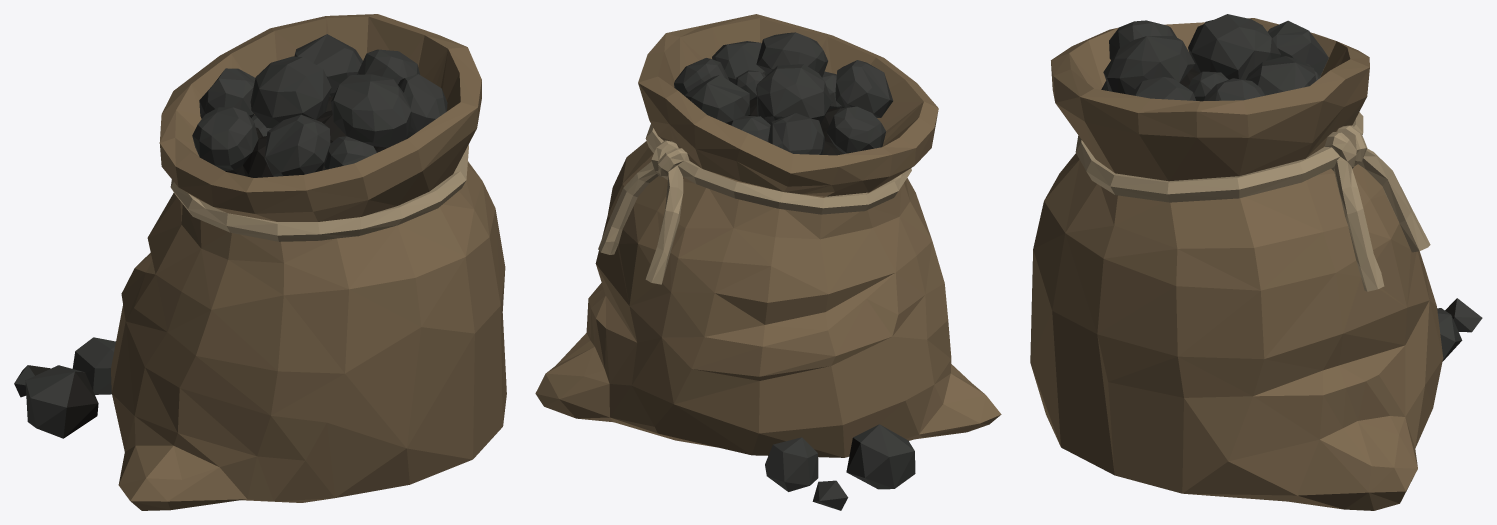
Rendered from CoalSack.fbx.
3 views of the same model, side by side, from view 1: azimuth 30°, elevation 25°; view 2: azimuth 150°, elevation 25°; view 3: azimuth 270°, elevation 25° (orthographic). The views are drawn at different scales.
Visible parts, largest first — view 1: CoalSack; view 2: CoalSack; view 3: CoalSack.
Boxes of the visible parts, <box> form: CoalSack: <box>14,14,506,510</box>; CoalSack: <box>535,14,1001,510</box>; CoalSack: <box>1030,14,1482,510</box>.
Size of the model in its own units: 0.651 by 0.6022 by 0.5862.
